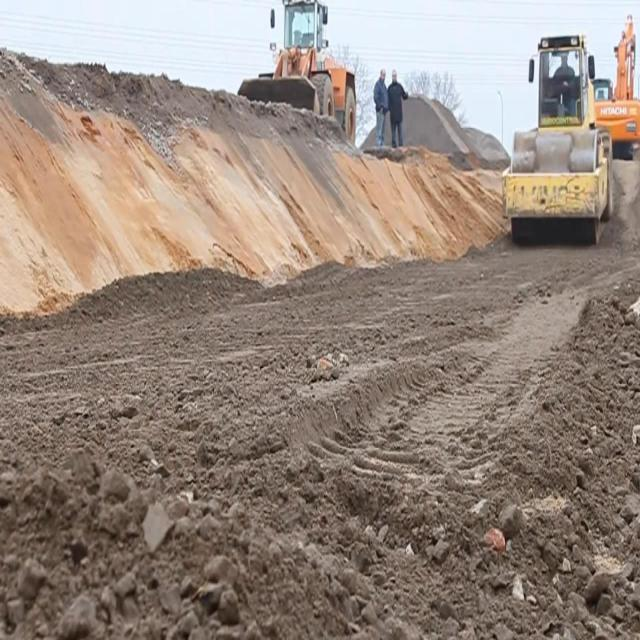Excavator: (595, 10, 639, 157)
Loader: (238, 0, 357, 143)
Roller: (506, 32, 610, 243)
